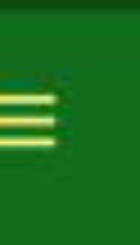ImgButton: (1, 1, 139, 244)
